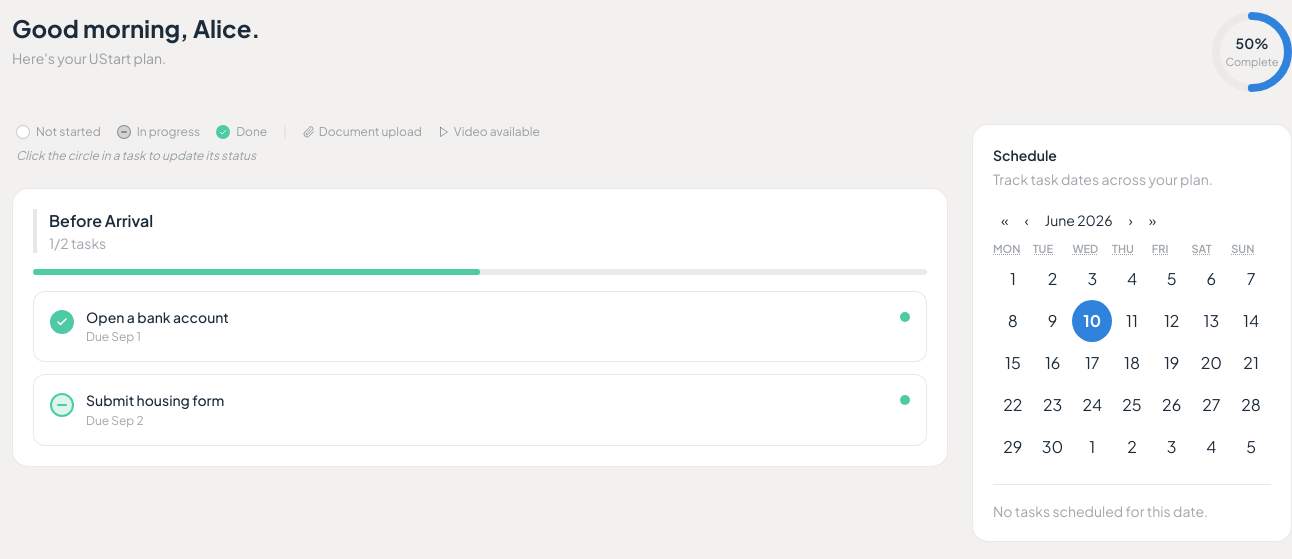
Test: PlanView › updates phase progress and overall progress optimistically
This screenshot has width=1292, height=559.
Check: the text "1/2 tasks" is shown, box [49,234,106,252]
Check: the text "50%" is shown, box [1236,33,1268,53]
Click the button named "submit housing form status in_progress" at x=62, y=405, box [50,393,74,417]
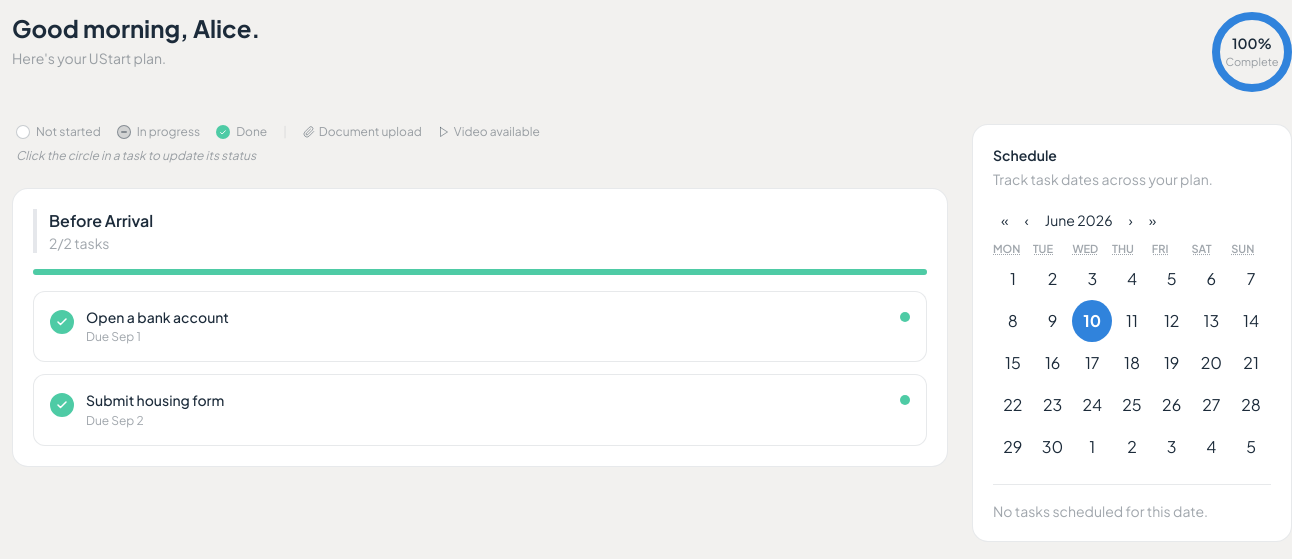
Check: the text "2/2 tasks" is shown, box [49,234,109,252]
Check: the text "100%" is shown, box [1232,33,1272,53]
